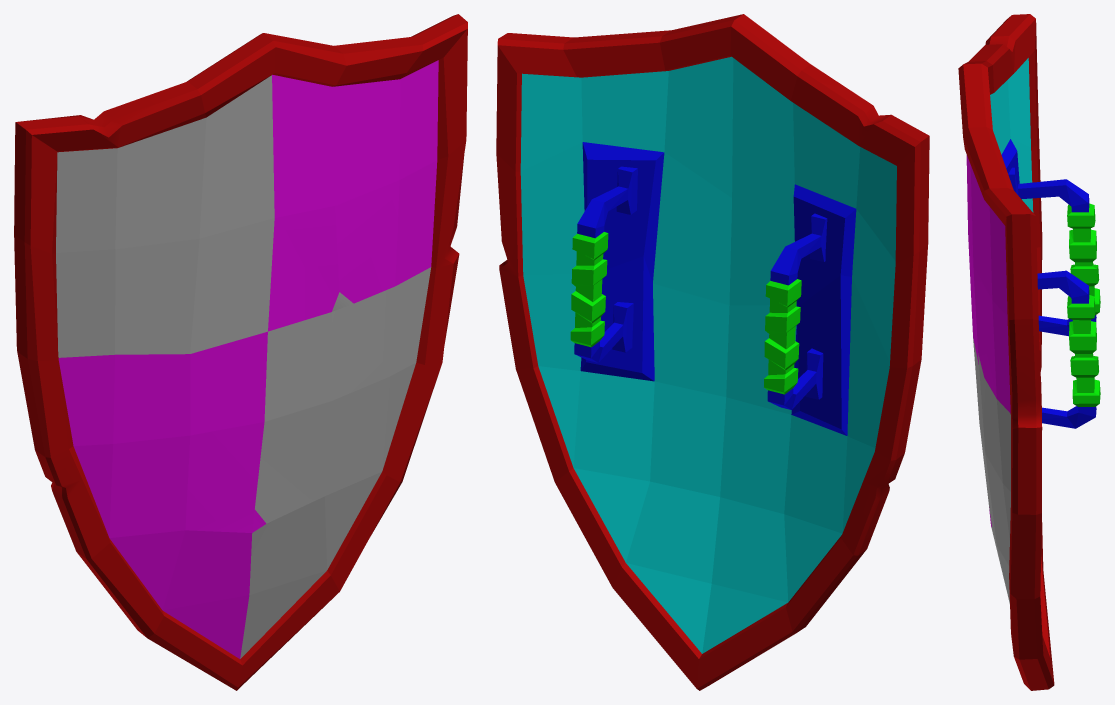
File: Sheild_Common_Heraldic_01.fbx
3 views of the same model, side by side, from view 1: azimuth 30°, elevation 25°; view 2: azimuth 150°, elevation 25°; view 3: azimuth 270°, elevation 25° (orthographic). The views are drawn at different scales.
Parts seen in each view (by area): view 1: SM_Wep_Shield_10; view 2: SM_Wep_Shield_10; view 3: SM_Wep_Shield_10.
Boxes of the visible parts, <box> form: SM_Wep_Shield_10: <box>14,14,467,690</box>; SM_Wep_Shield_10: <box>496,14,929,690</box>; SM_Wep_Shield_10: <box>958,14,1100,690</box>.
Bounding box in the file's own units: 66.84 × 97.74 × 20.07.
